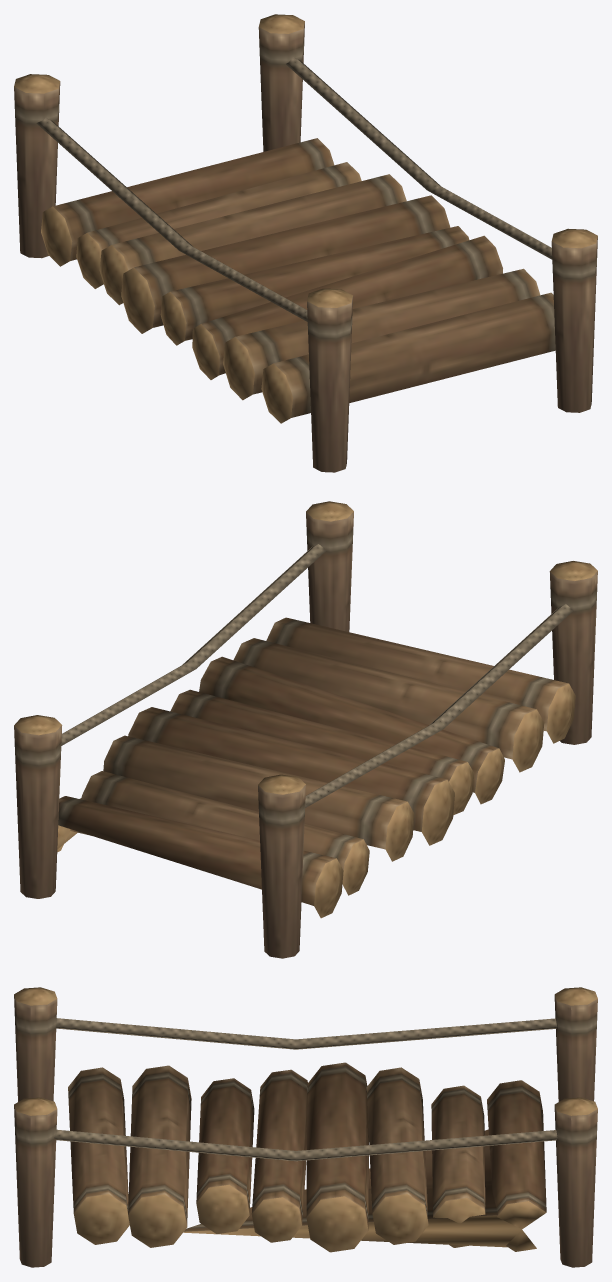
The model's file is bridge_4.FBX.
The picture shows the model from 3 angles, top to bottom: view 1: azimuth 30°, elevation 25°; view 2: azimuth 150°, elevation 25°; view 3: azimuth 270°, elevation 25°; orthographic projection. The views are drawn at different scales.
Visible parts, largest first — view 1: polySurface1593; view 2: polySurface1593; view 3: polySurface1593.
Part boxes in pixels (x1,y1,x2,y2): polySurface1593: [14, 14, 597, 472]; polySurface1593: [14, 501, 597, 958]; polySurface1593: [14, 987, 597, 1267].
Bounding box in the file's own units: 59.39 × 31.63 × 104.
